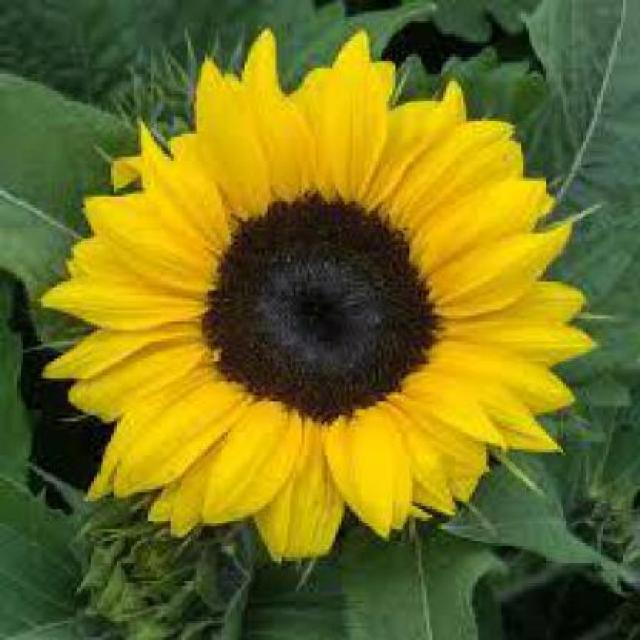flower: (52, 30, 585, 519)
